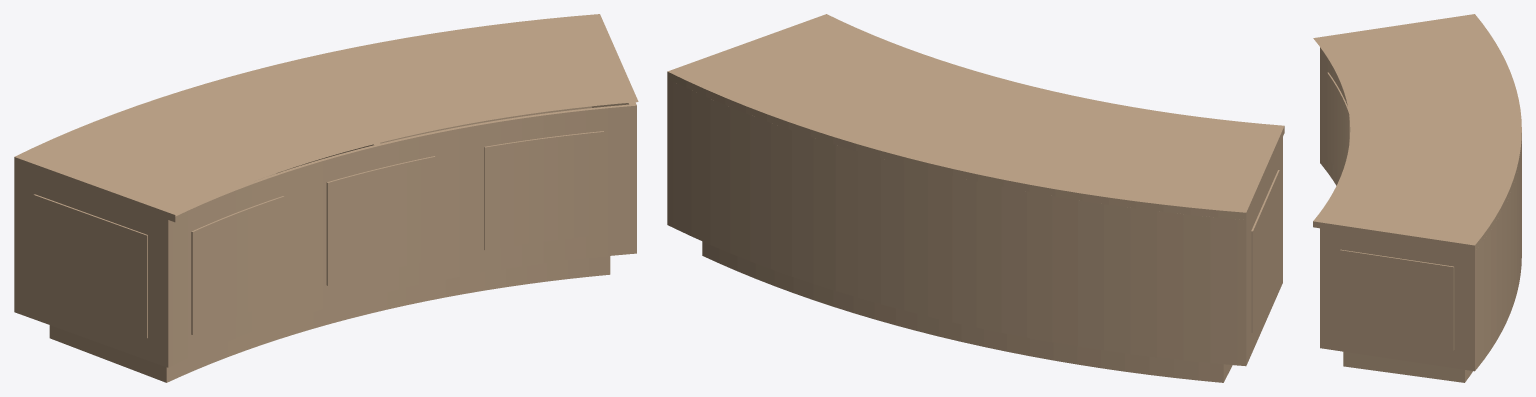
The model's file is curved-seat-kennington.glb.
The picture shows the model from 3 angles, left to right: view 1: azimuth 30°, elevation 25°; view 2: azimuth 150°, elevation 25°; view 3: azimuth 270°, elevation 25°; orthographic projection. The views are drawn at different scales.
Visible parts, largest first — view 1: Lid (hinged on the straight line at the back), Front, bent round the curve, Front panel, right, End panel, left, End left (radial), Front panel, middle, Fixed strip behind the hinge line, Front panel, left, Plinth, set back, End right (radial); view 2: Back, bent round the curve, Lid (hinged on the straight line at the back), Fixed strip behind the hinge line, Plinth, set back, End left (radial), End panel, left, End right (radial); view 3: Lid (hinged on the straight line at the back), End panel, right, End right (radial), Fixed strip behind the hinge line, Back, bent round the curve, Plinth, set back, Front panel, left, Front, bent round the curve, End left (radial).
Part boxes in pixels (x1,y1,x2,y2): Lid (hinged on the straight line at the back): [14, 14, 638, 222]; Front, bent round the curve: [173, 104, 629, 365]; Front panel, right: [484, 131, 603, 250]; End panel, left: [33, 194, 147, 338]; End left (radial): [14, 164, 173, 367]; Front panel, middle: [326, 156, 435, 285]; Fixed strip behind the hinge line: [15, 14, 598, 156]; Front panel, left: [191, 196, 284, 334]; Plinth, set back: [49, 256, 610, 382]; End right (radial): [592, 102, 636, 253]; Back, bent round the curve: [673, 82, 1237, 365]; Lid (hinged on the straight line at the back): [667, 14, 1284, 219]; Fixed strip behind the hinge line: [667, 71, 1246, 219]; Plinth, set back: [702, 241, 1232, 382]; End left (radial): [1237, 137, 1282, 366]; End panel, left: [1251, 170, 1279, 332]; End right (radial): [667, 79, 673, 227]; Lid (hinged on the straight line at the back): [1313, 14, 1474, 251]; End panel, right: [1340, 249, 1454, 350]; End right (radial): [1320, 228, 1477, 371]; Fixed strip behind the hinge line: [1475, 14, 1521, 250]; Back, bent round the curve: [1477, 139, 1521, 367]; Plinth, set back: [1343, 351, 1472, 382]; Front panel, left: [1327, 72, 1350, 176]; Front, bent round the curve: [1322, 50, 1347, 185]; End left (radial): [1320, 47, 1321, 164].
Size of the model in its own units: 1.5 by 0.45 by 0.5718.
